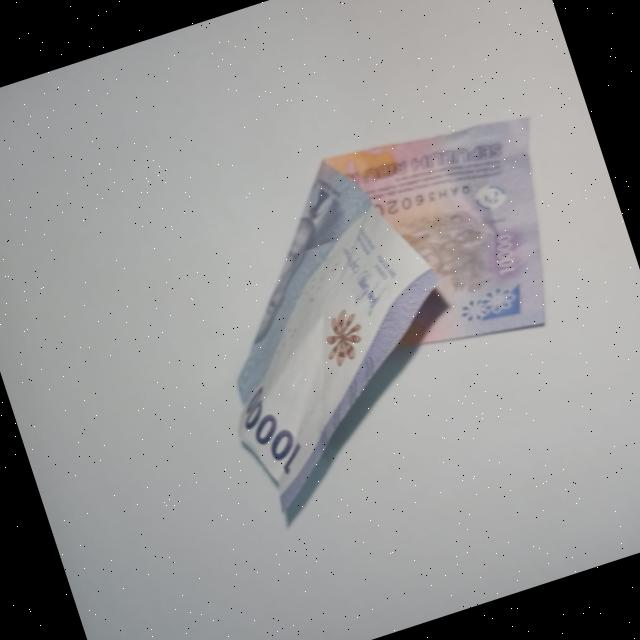10K: (156, 89, 634, 539)
